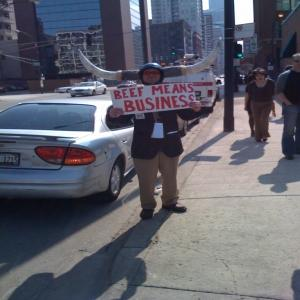Vehicle-registration-plate: (1, 154, 21, 168)
